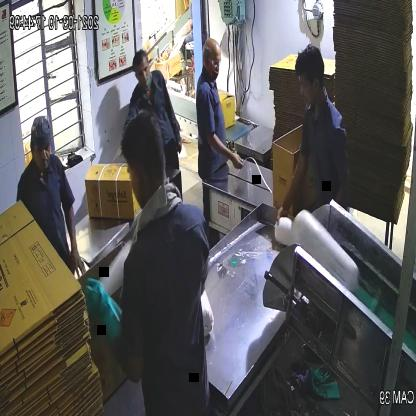glove: (76, 265, 129, 353)
no_glove: (274, 146, 314, 230), (59, 192, 86, 292), (209, 130, 248, 170)
